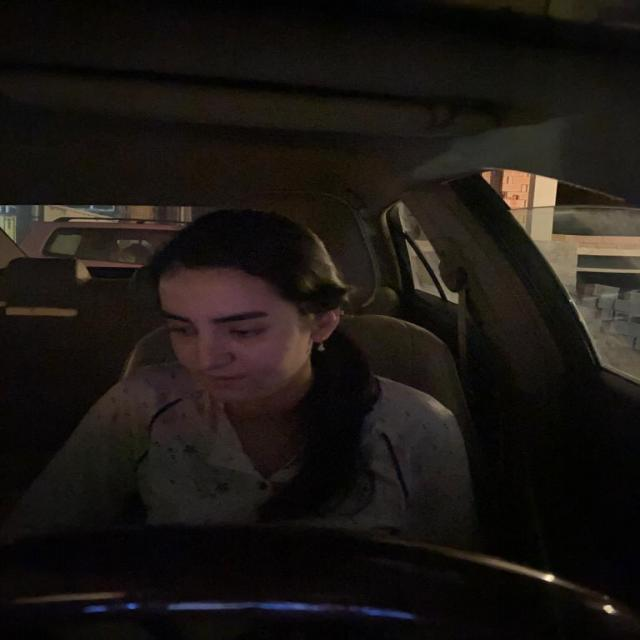person: (150, 206, 356, 410)
